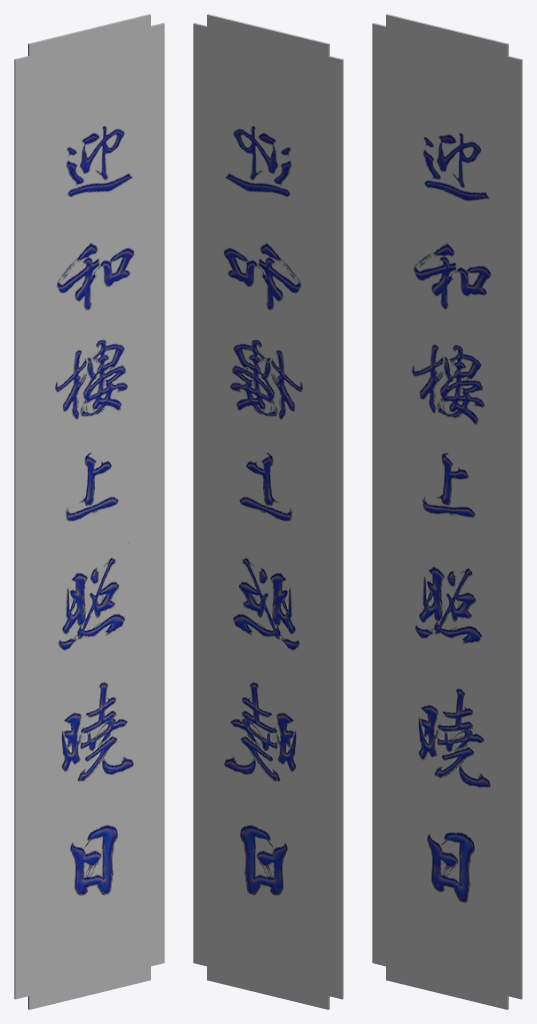
File: SM_Unhyun_Norak_N_Haenggak_Joo_G001.fbx
3 views of the same model, side by side, from view 1: azimuth 30°, elevation 25°; view 2: azimuth 150°, elevation 25°; view 3: azimuth 330°, elevation 25° (orthographic).
Parts seen in each view (by area): view 1: SM_Unhyun_Norak_N_Haenggak_Joo_G001; view 2: SM_Unhyun_Norak_N_Haenggak_Joo_G001; view 3: SM_Unhyun_Norak_N_Haenggak_Joo_G001.
Part boxes in pixels (left/top/right/bottom): SM_Unhyun_Norak_N_Haenggak_Joo_G001: left=14, top=14, right=164, bottom=1009; SM_Unhyun_Norak_N_Haenggak_Joo_G001: left=193, top=14, right=343, bottom=1009; SM_Unhyun_Norak_N_Haenggak_Joo_G001: left=372, top=14, right=522, bottom=1009.
Size of the model in its own units: 14.56 by 90.01 by 0.2.
